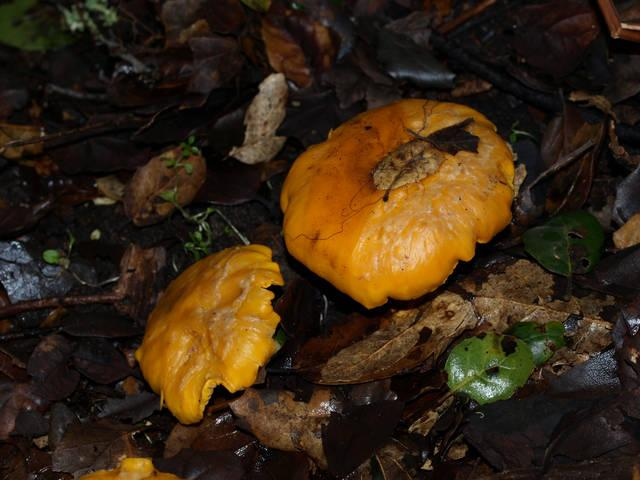Edible Mushroom: (279, 96, 518, 309), (133, 242, 285, 425)
